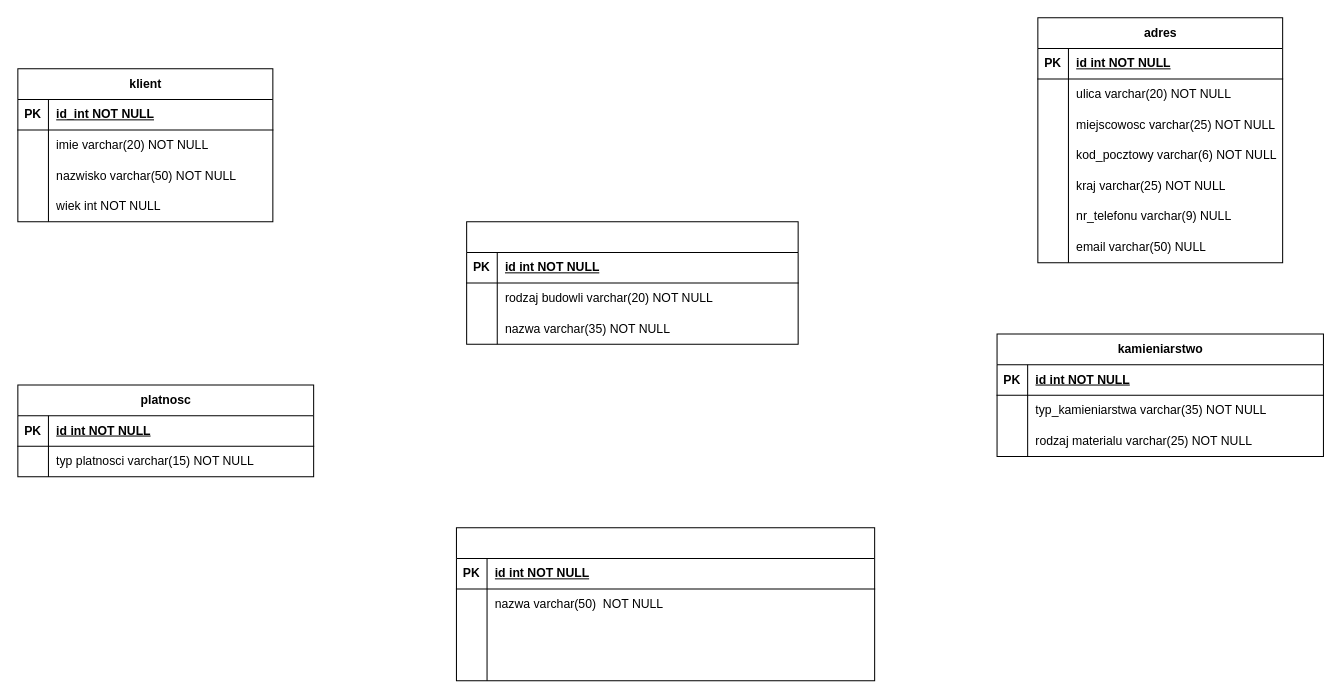
The diagram is 1341 pixels wide and 699 high, and some of its shapes have lost their labels. The box of each missing label's shape, as (x1, y1, x2, y2) in pixels:
sklep: (466, 221, 798, 344)
strona internetowa: (455, 527, 875, 681)
